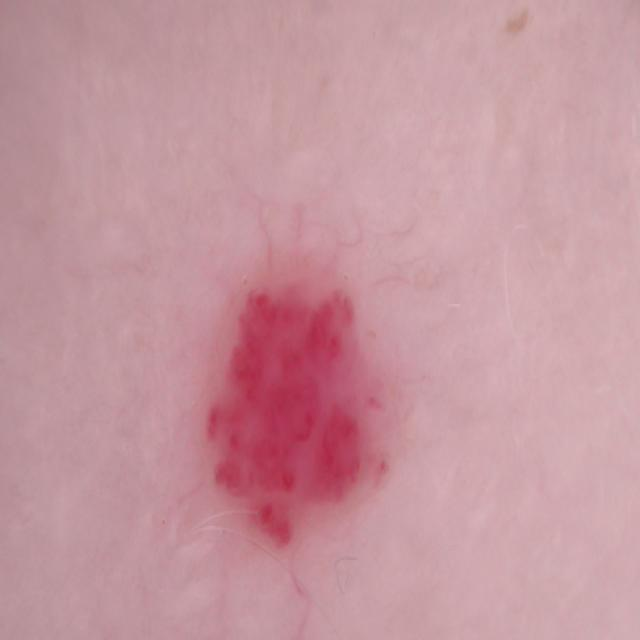Vascular Lesions: (196, 257, 419, 575)
